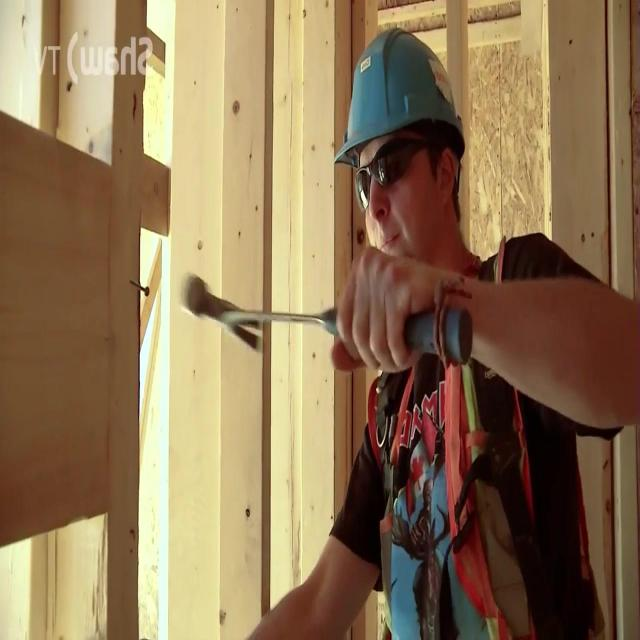Reflective-Jacket: (319, 227, 556, 637)
Safety-Helmet: (325, 16, 480, 189)
